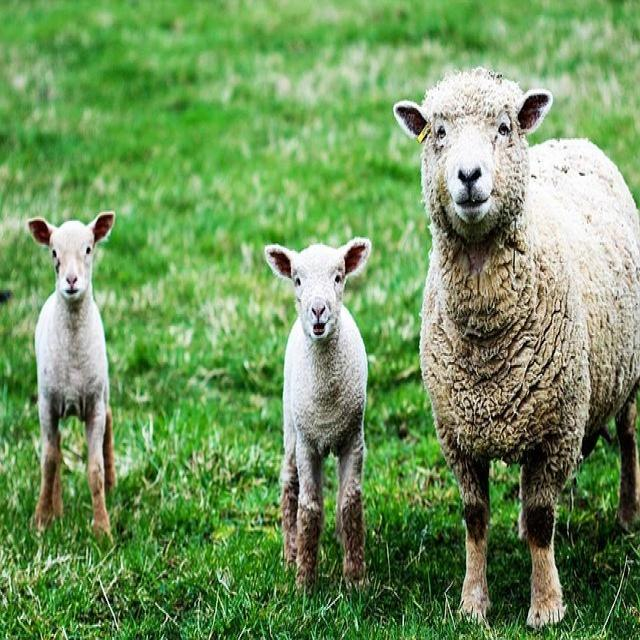goat: (393, 68, 640, 632), (264, 239, 372, 595), (24, 213, 116, 541)
